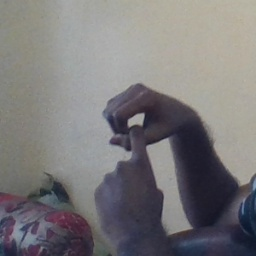Q: (88, 82, 186, 223)
